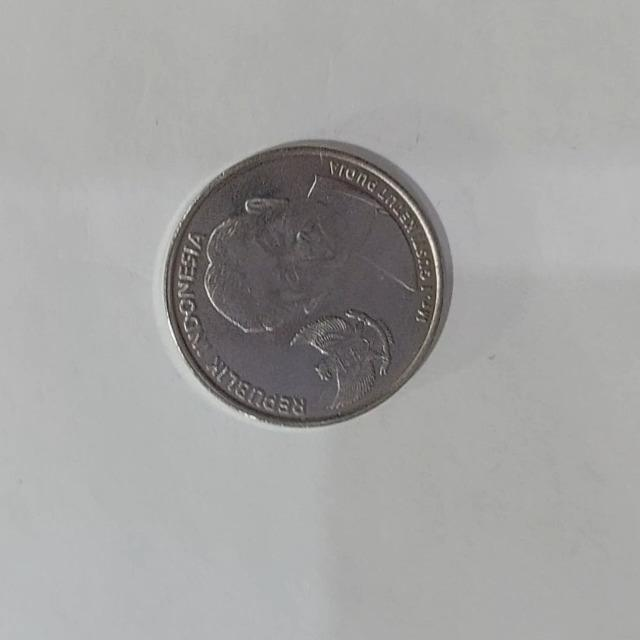Rp100: (160, 138, 450, 428)
